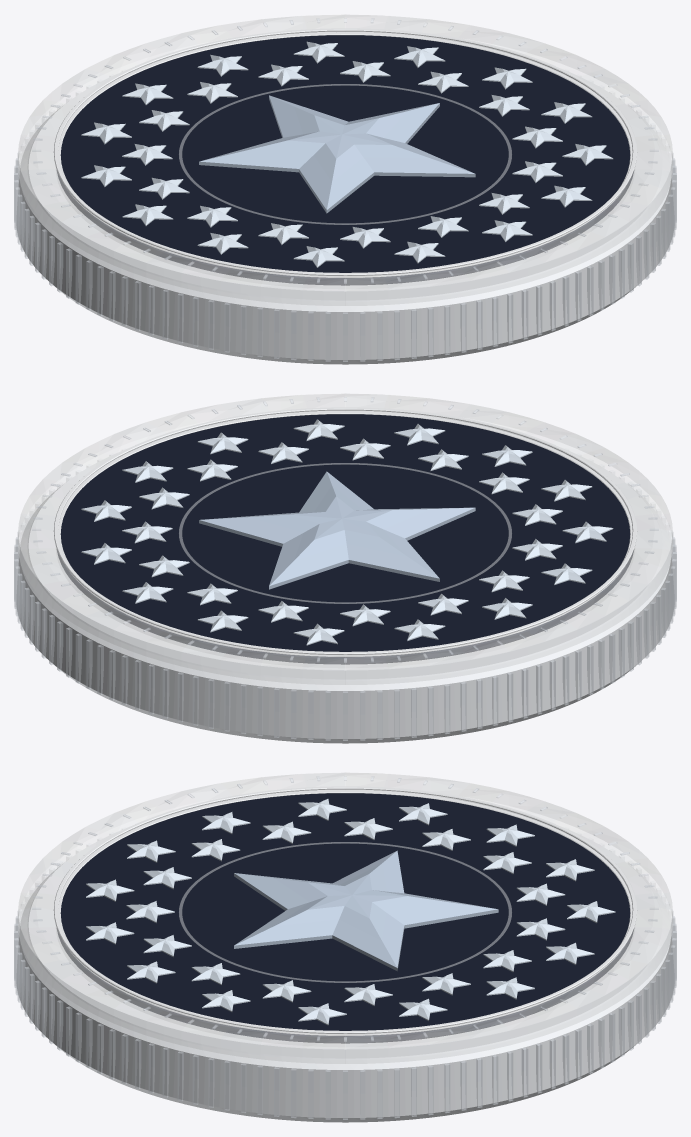
Rendered from perfect_30.glb.
3 views of the same model, one above another, from view 1: azimuth 30°, elevation 25°; view 2: azimuth 150°, elevation 25°; view 3: azimuth 270°, elevation 25° (orthographic).
Parts seen in each view (by area): view 1: PB_Field, PB_Coin, PB_RimBase, PB_Reeding, PF_Stars, PF_BigStar, PB_RimCrown1, PB_RimCrown0, PB_RimCrown2, PB_RimLip, PB_InnerRing, PF_EmblemRing (+1 smaller); view 2: PB_Field, PB_Coin, PB_RimBase, PB_Reeding, PF_Stars, PF_BigStar, PB_RimCrown0, PB_RimCrown2, PB_RimCrown1, PB_RimLip, PB_InnerRing, PF_EmblemRing (+1 smaller); view 3: PB_Field, PB_Coin, PB_RimBase, PB_Reeding, PF_Stars, PF_BigStar, PB_RimCrown0, PB_RimCrown1, PB_RimCrown2, PB_RimLip, PB_InnerRing, PF_EmblemRing (+1 smaller).
Part boxes in pixels (bbox=[...]): PB_Field: bbox=[57, 35, 633, 285]; PB_Coin: bbox=[17, 37, 673, 364]; PB_RimBase: bbox=[18, 15, 672, 305]; PB_Reeding: bbox=[14, 70, 676, 361]; PF_Stars: bbox=[81, 41, 613, 267]; PF_BigStar: bbox=[199, 95, 475, 213]; PB_RimCrown1: bbox=[18, 15, 672, 290]; PB_RimCrown0: bbox=[21, 16, 669, 289]; PB_RimCrown2: bbox=[18, 15, 672, 290]; PB_RimLip: bbox=[53, 28, 637, 275]; PB_InnerRing: bbox=[58, 32, 632, 277]; PF_EmblemRing: bbox=[179, 84, 511, 224]; PB_Field: bbox=[57, 414, 633, 664]; PB_Coin: bbox=[17, 416, 673, 743]; PB_RimBase: bbox=[18, 394, 672, 684]; PB_Reeding: bbox=[14, 449, 676, 740]; PF_Stars: bbox=[81, 419, 613, 645]; PF_BigStar: bbox=[199, 471, 475, 589]; PB_RimCrown0: bbox=[18, 394, 672, 669]; PB_RimCrown2: bbox=[21, 395, 669, 668]; PB_RimCrown1: bbox=[18, 394, 672, 669]; PB_RimLip: bbox=[53, 407, 637, 654]; PB_InnerRing: bbox=[58, 411, 632, 656]; PF_EmblemRing: bbox=[179, 463, 511, 603]; PB_Field: bbox=[57, 793, 633, 1043]; PB_Coin: bbox=[17, 795, 673, 1122]; PB_RimBase: bbox=[18, 773, 672, 1063]; PB_Reeding: bbox=[14, 828, 676, 1119]; PF_Stars: bbox=[86, 799, 615, 1025]; PF_BigStar: bbox=[234, 850, 498, 971]; PB_RimCrown0: bbox=[18, 773, 672, 1048]; PB_RimCrown1: bbox=[21, 774, 669, 1047]; PB_RimCrown2: bbox=[18, 773, 672, 1048]; PB_RimLip: bbox=[53, 786, 637, 1033]; PB_InnerRing: bbox=[58, 790, 632, 1035]; PF_EmblemRing: bbox=[179, 842, 511, 982].
Bounding box in the file's own units: 0.039 × 0.00594 × 0.039.
